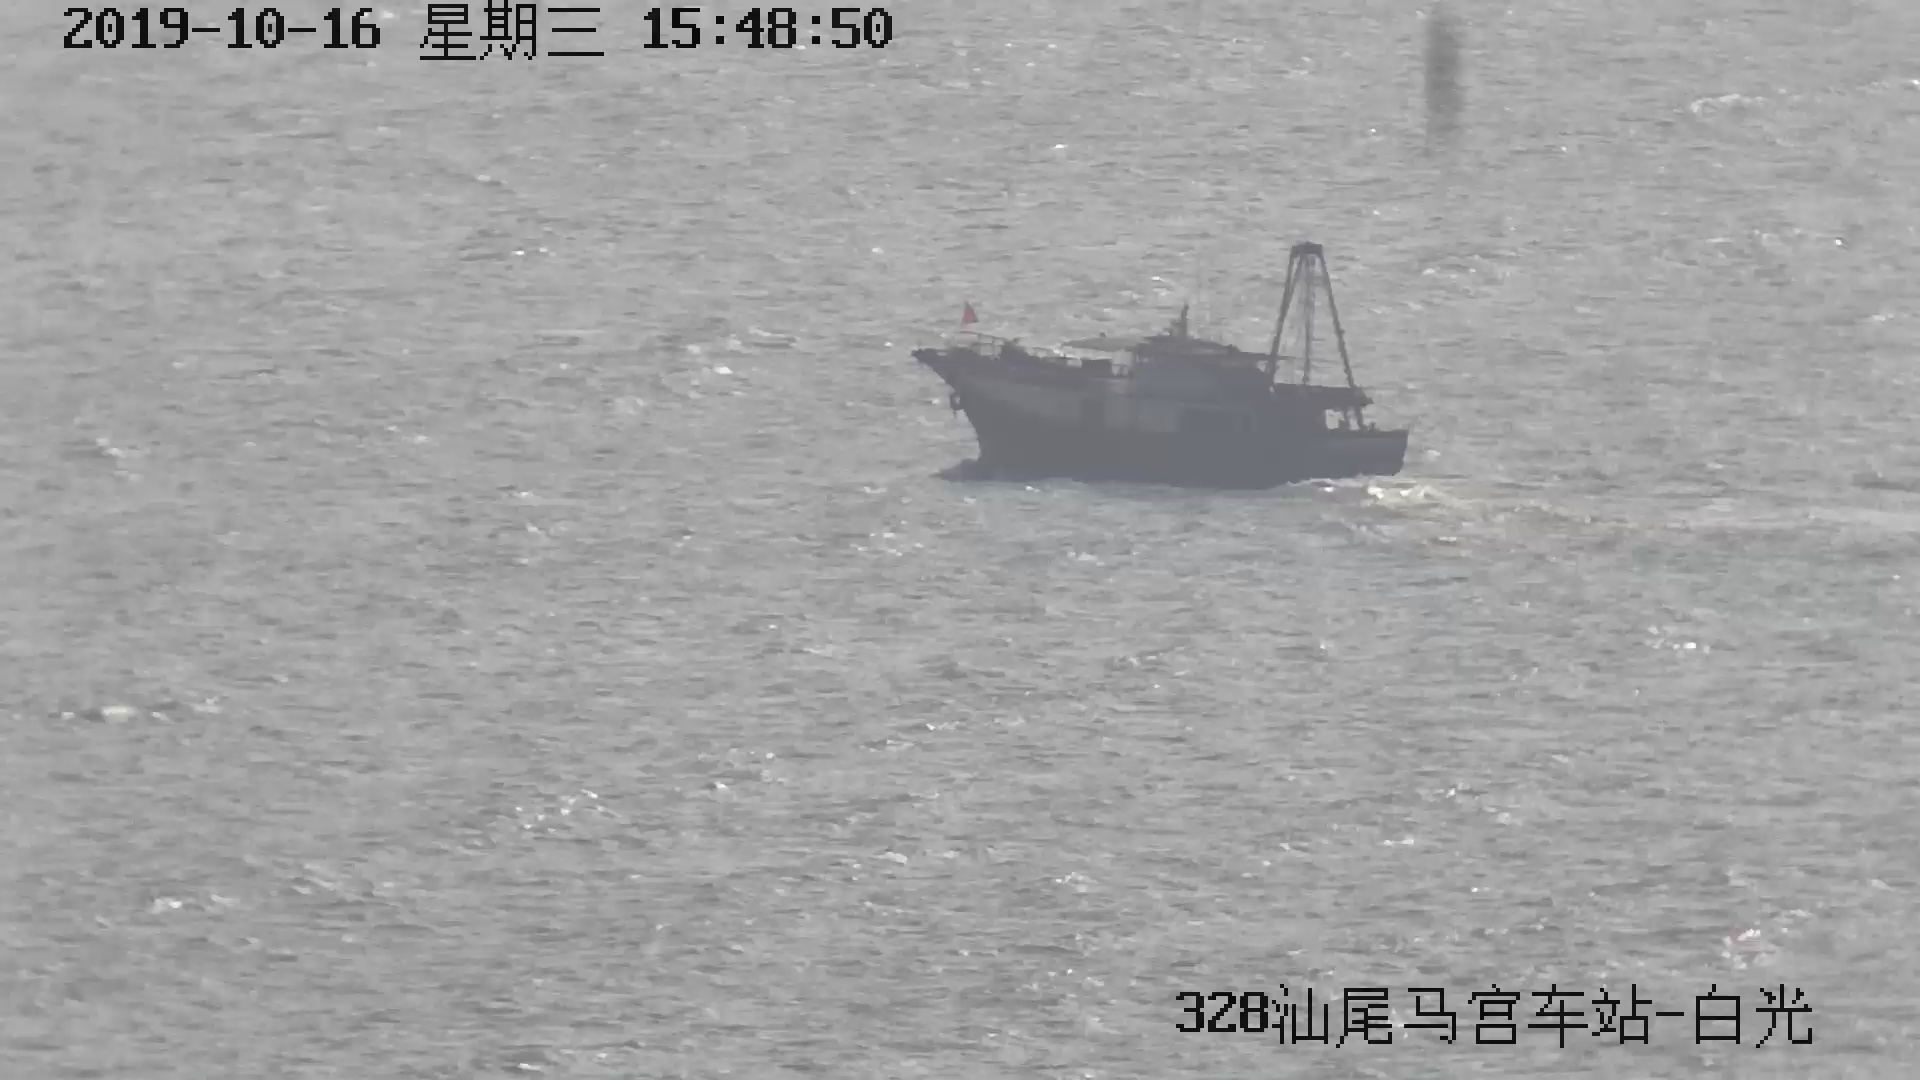ship: (919, 247, 1407, 487)
